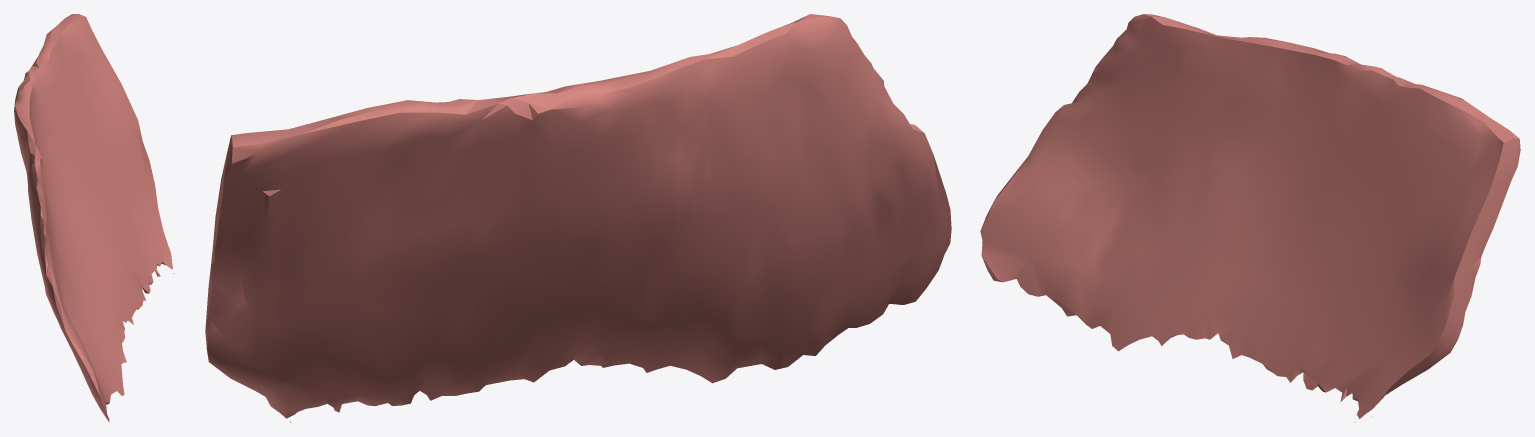
File: fma46761_mm1073m.glb
The picture shows the model from 3 angles, left to right: view 1: azimuth 30°, elevation 25°; view 2: azimuth 150°, elevation 25°; view 3: azimuth 270°, elevation 25°; orthographic projection. The views are drawn at different scales.
Parts seen in each view (by area): view 1: FMA46761_MM1073M; view 2: FMA46761_MM1073M; view 3: FMA46761_MM1073M.
Boxes of the visible parts, x1,y1,x2,y2 form: FMA46761_MM1073M: (14, 14, 174, 422); FMA46761_MM1073M: (205, 14, 951, 422); FMA46761_MM1073M: (980, 14, 1520, 422).
Size of the model in its own units: 0.0358 by 0.0322 by 0.0537.
